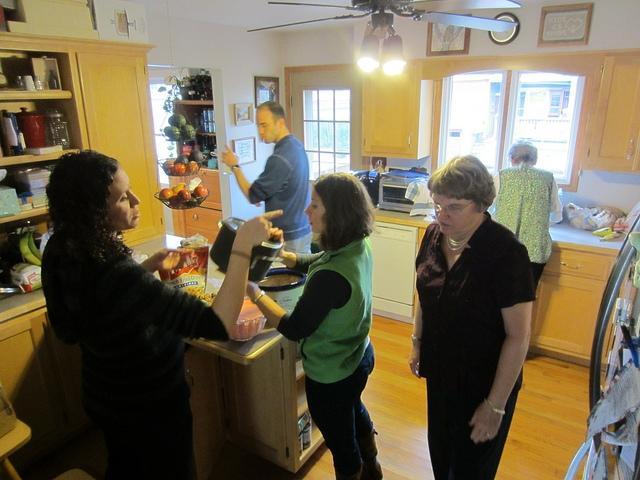apple: (158, 188, 174, 202), (192, 186, 208, 200), (177, 189, 191, 203), (171, 163, 186, 176), (186, 161, 198, 174), (162, 160, 175, 170)
banana: (19, 231, 42, 267), (28, 230, 42, 261), (592, 227, 620, 241)
